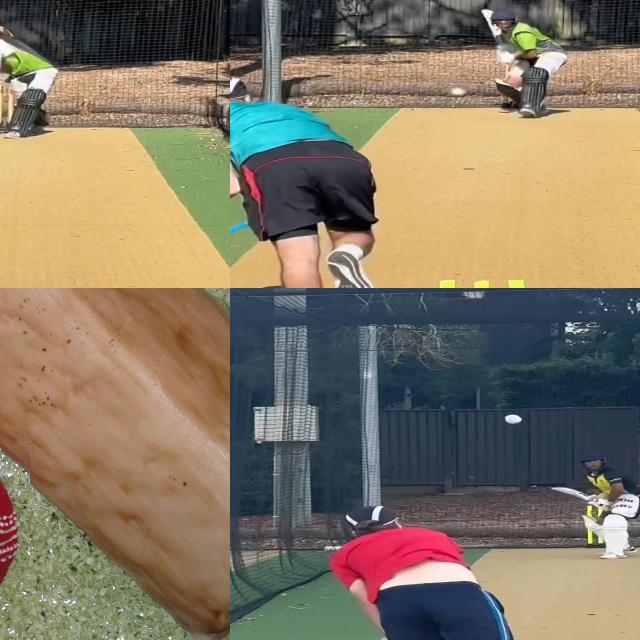Cricket ball: (444, 84, 470, 101), (501, 412, 525, 426)
